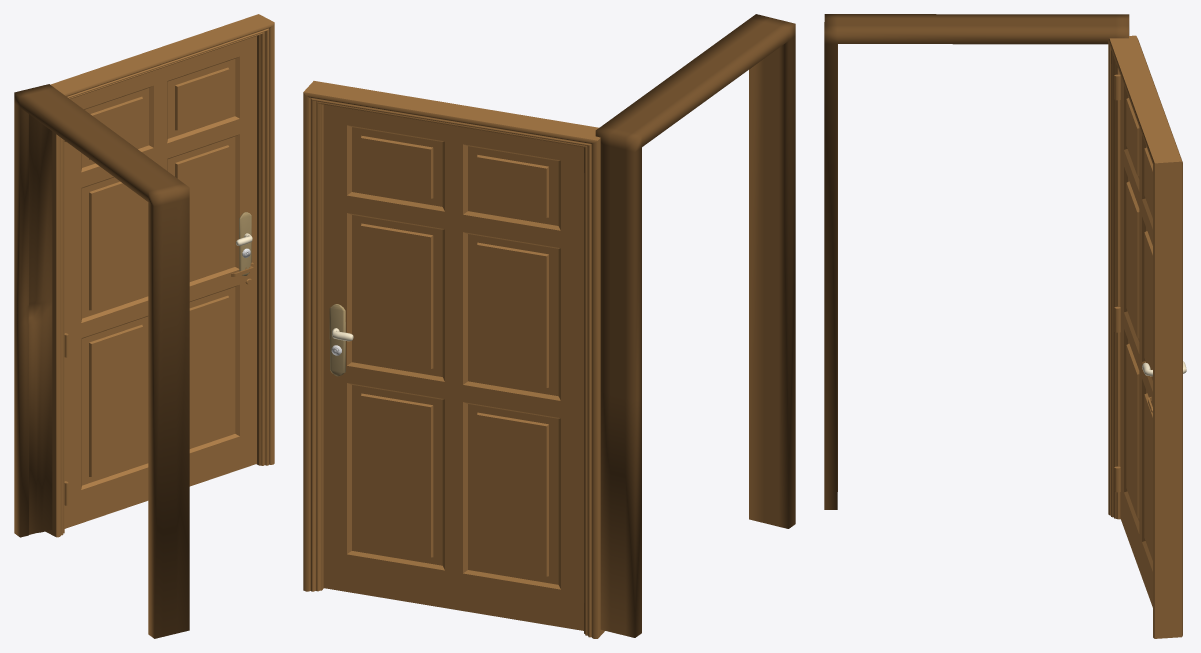
The picture shows the model from 3 angles, left to right: view 1: azimuth 30°, elevation 25°; view 2: azimuth 150°, elevation 25°; view 3: azimuth 270°, elevation 25°; orthographic projection. The views are drawn at different scales.
Parts seen in each view (by area): view 1: 10057_wooden_door_v3_iterations-2.001, OutBoddy_Cube.002, Locker.001_Cube.004; view 2: 10057_wooden_door_v3_iterations-2.001, OutBoddy_Cube.002, Locker_Cube.003; view 3: 10057_wooden_door_v3_iterations-2.001, OutBoddy_Cube.002.
Part boxes in pixels (box(x1,y1,x2,y2)): 10057_wooden_door_v3_iterations-2.001: box(45, 14, 274, 537); OutBoddy_Cube.002: box(14, 84, 189, 638); Locker.001_Cube.004: box(239, 212, 251, 275); 10057_wooden_door_v3_iterations-2.001: box(303, 81, 604, 638); OutBoddy_Cube.002: box(595, 14, 795, 637); Locker_Cube.003: box(329, 304, 345, 376); 10057_wooden_door_v3_iterations-2.001: box(1108, 35, 1182, 638); OutBoddy_Cube.002: box(824, 14, 1129, 509).
Size of the model in its own units: 8.02 by 12.51 by 8.54.
